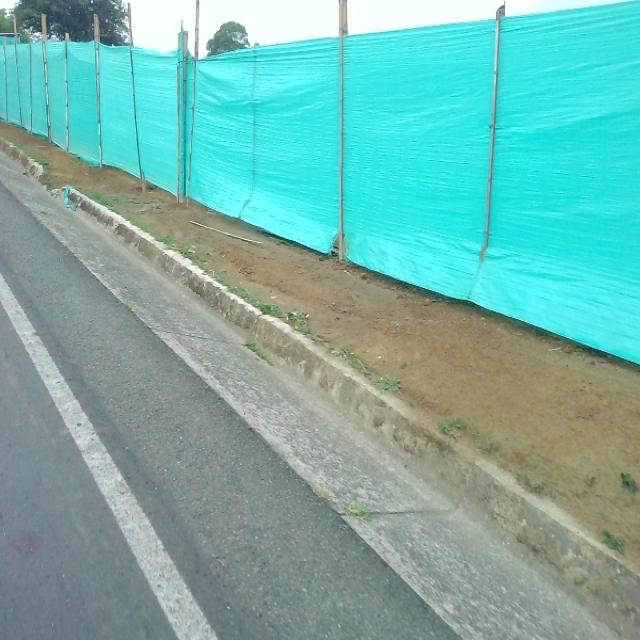DITCH: (1, 104, 638, 638), (1, 131, 638, 638)
